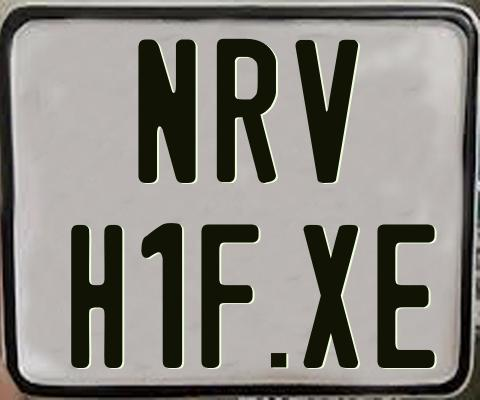1: (141, 221, 182, 369)
E: (376, 222, 437, 372)
F: (199, 224, 262, 370)
H: (69, 222, 126, 365)
N: (135, 37, 197, 185)
R: (215, 36, 276, 185)
V: (295, 40, 359, 184)
X: (300, 223, 356, 369)
